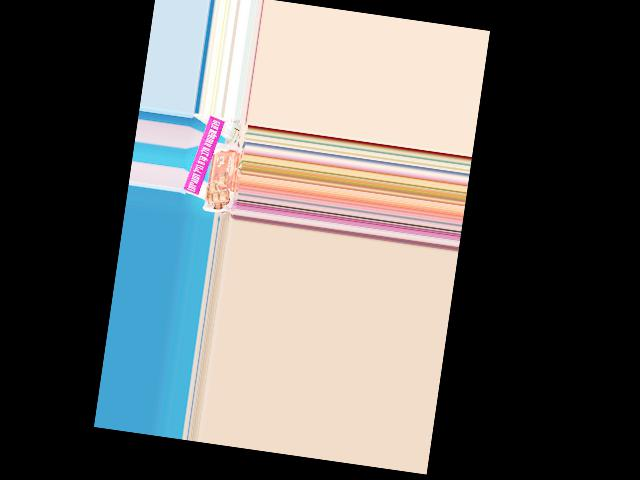chocolate: (201, 140, 243, 216)
